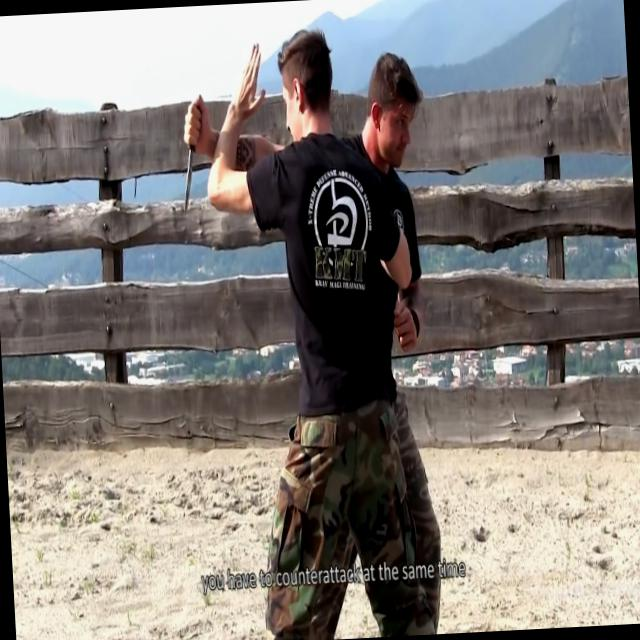knife: (172, 88, 210, 221)
